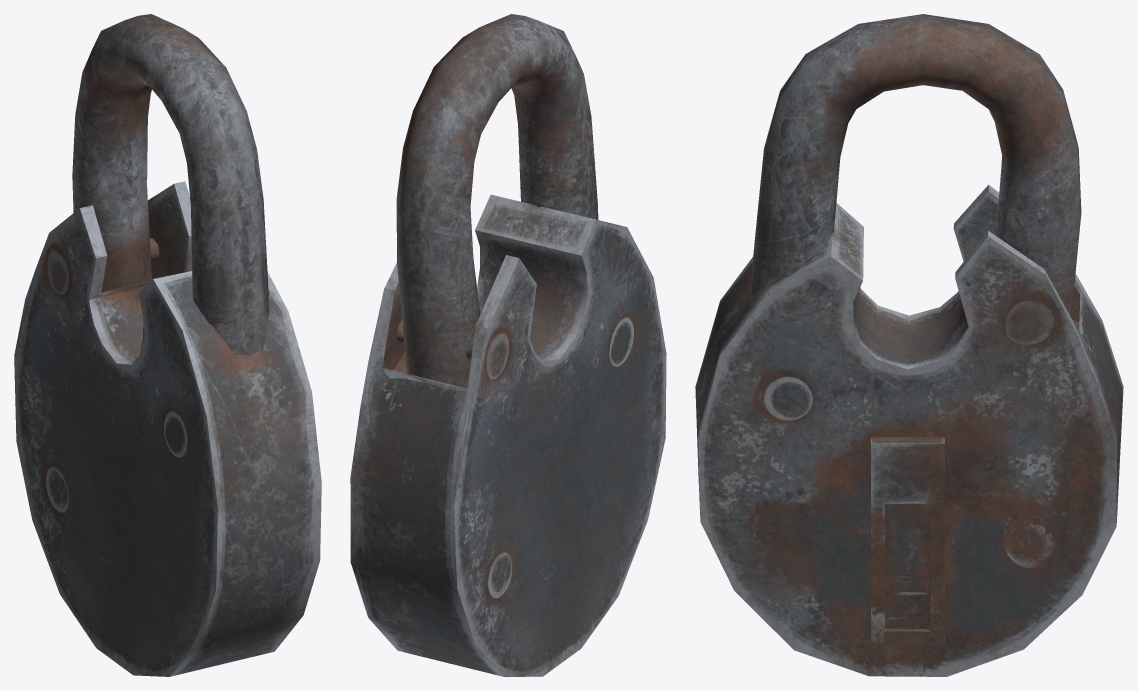
The model's file is SM_Lock1.fbx.
3 renders of one model, left to right at view 1: azimuth 30°, elevation 25°; view 2: azimuth 150°, elevation 25°; view 3: azimuth 270°, elevation 25°, orthographic. The views are drawn at different scales.
Visible parts, largest first — view 1: polySurface2, polySurface1; view 2: polySurface2, polySurface1; view 3: polySurface2, polySurface1.
Boxes of the visible parts, box(x1,y1,x2,y2) form: polySurface2: box(14, 181, 321, 676); polySurface1: box(72, 14, 268, 355); polySurface2: box(350, 194, 666, 676); polySurface1: box(396, 14, 598, 387); polySurface2: box(695, 184, 1123, 676); polySurface1: box(750, 14, 1081, 317).
Size of the model in its own units: 39.91 by 195 by 119.
1 material, 1 textured.
